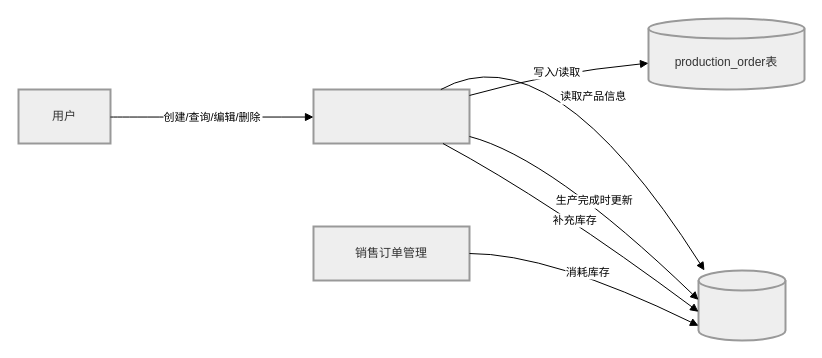
The diagram is 822 pixels wide and 358 high, and some of its shapes have lost their labels. Here are the shapes that lost their labels. From the top down, the centre of each, then its label:
(x=391, y=116): 生产订单管理
(x=741, y=305): product表
